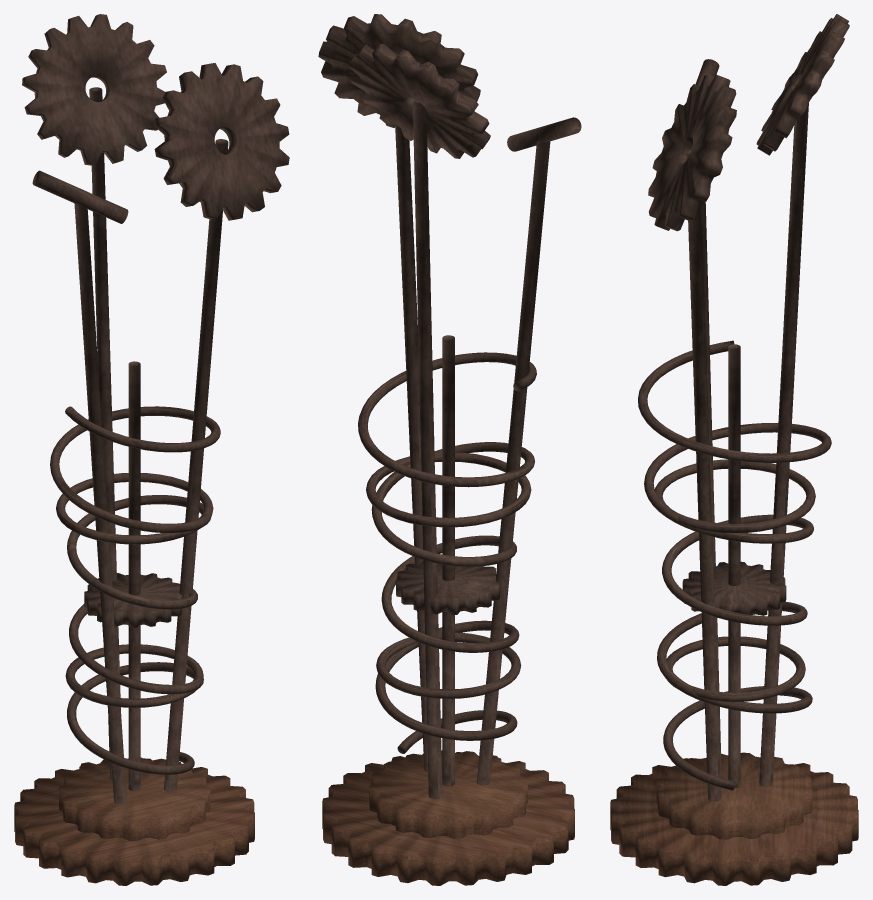
Rendered from escultura-esc-043.glb.
The picture shows the model from 3 angles, left to right: view 1: azimuth 30°, elevation 25°; view 2: azimuth 150°, elevation 25°; view 3: azimuth 270°, elevation 25°; orthographic projection. The views are drawn at different scales.
Visible parts, largest first — view 1: world; view 2: world; view 3: world.
Boxes of the visible parts, x1=… form: world: x1=14, y1=14, x2=289, y2=885; world: x1=318, y1=14, x2=581, y2=885; world: x1=610, y1=14, x2=858, y2=885.
Bounding box in the file's own units: 0.4235 × 1.28 × 0.3555.
Materials: 1 (1 with a texture image).
